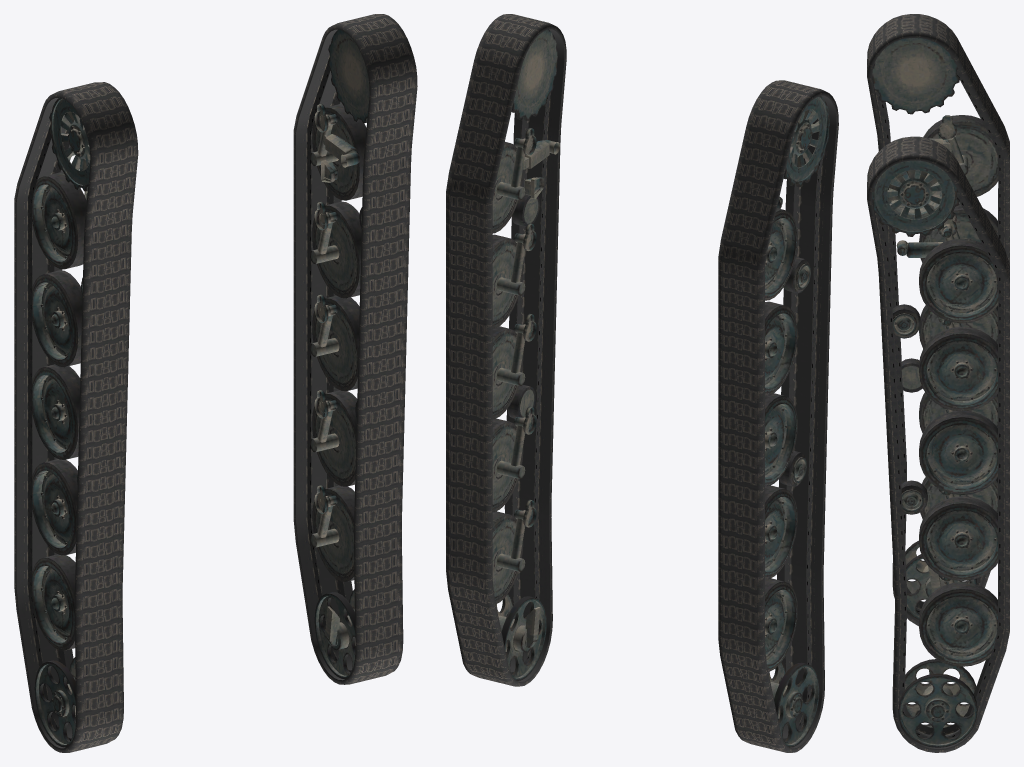
File: Chassis.glb
3 views of the same model, side by side, from view 1: azimuth 30°, elevation 25°; view 2: azimuth 150°, elevation 25°; view 3: azimuth 270°, elevation 25° (orthographic). The views are drawn at different scales.
Visible parts, largest first — view 1: set_0_group_0, set_1_group_0, set_2_group_0, set_3_group_0; view 2: set_1_group_0, set_0_group_0, set_3_group_0, set_2_group_0; view 3: set_3_group_0, set_0_group_0, set_2_group_0, set_1_group_0.
Part boxes in pixels (bbox=[...]): set_0_group_0: bbox=[293, 14, 417, 684]; set_1_group_0: bbox=[14, 82, 138, 752]; set_2_group_0: bbox=[32, 97, 90, 747]; set_3_group_0: bbox=[310, 29, 369, 678]; set_1_group_0: bbox=[718, 80, 838, 752]; set_0_group_0: bbox=[446, 14, 566, 686]; set_3_group_0: bbox=[492, 29, 559, 680]; set_2_group_0: bbox=[765, 96, 829, 747]; set_3_group_0: bbox=[872, 160, 998, 747]; set_0_group_0: bbox=[867, 136, 1009, 752]; set_2_group_0: bbox=[872, 37, 998, 619]; set_1_group_0: bbox=[867, 14, 1009, 626].
Size of the model in its own units: 2.5 by 4.88 by 1.06.
Materials: 4 (4 with a texture image).
